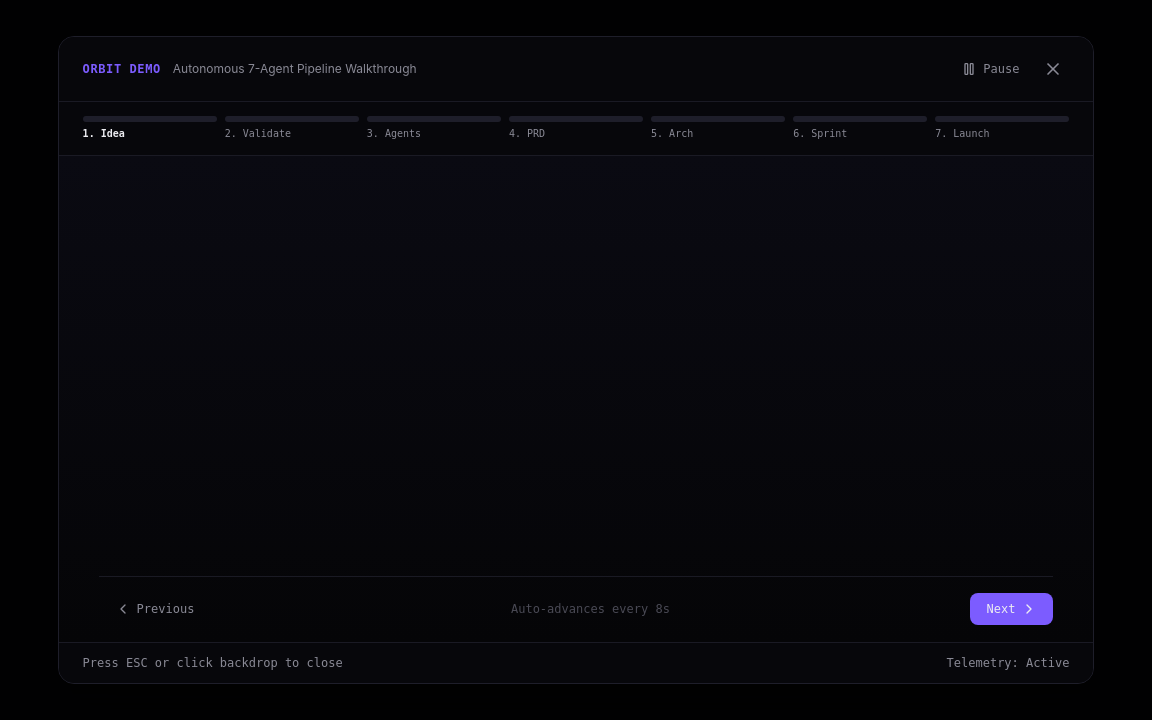
WatchDemoModal (Section 11) › switches chapters when a chapter marker is clicked
The width and height of the screenshot is (1152, 720).
# Click Chapter 4 (PRD)
Step 1. Click the button named "Jump to Step 4: PRD" → coordinates (576, 128), box [509,112,643,145]
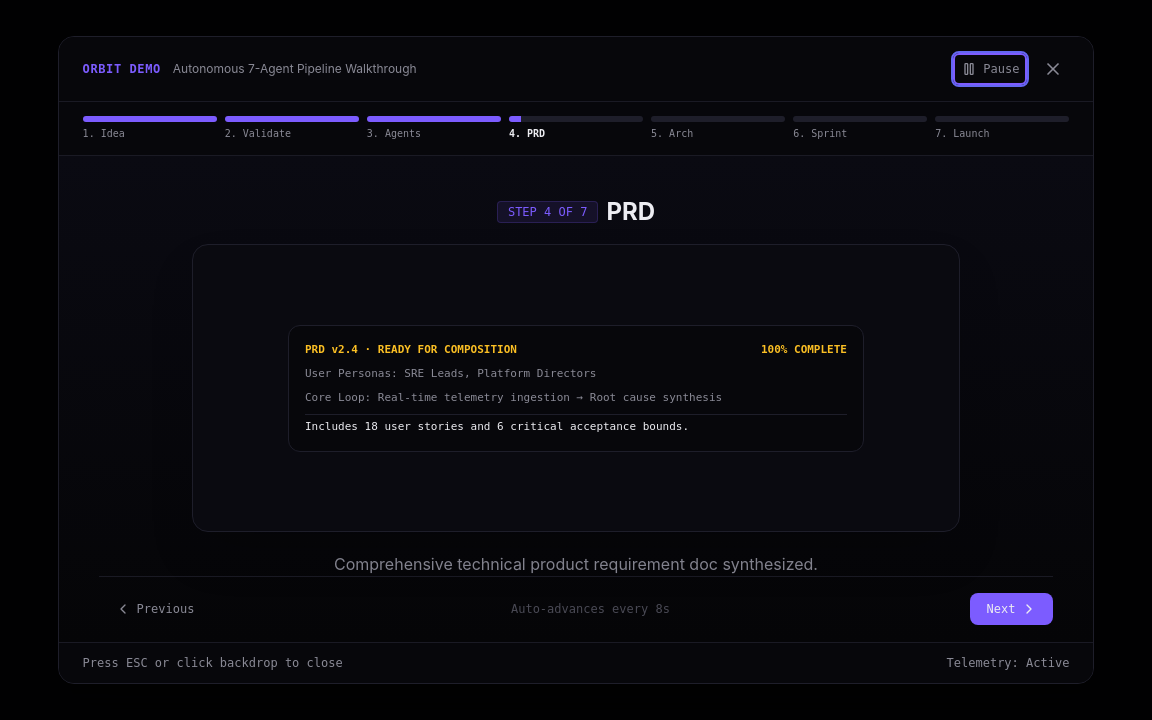
Expected: the text "Comprehensive technical product requirement doc synthesized." is shown, [334,552,818,576]
